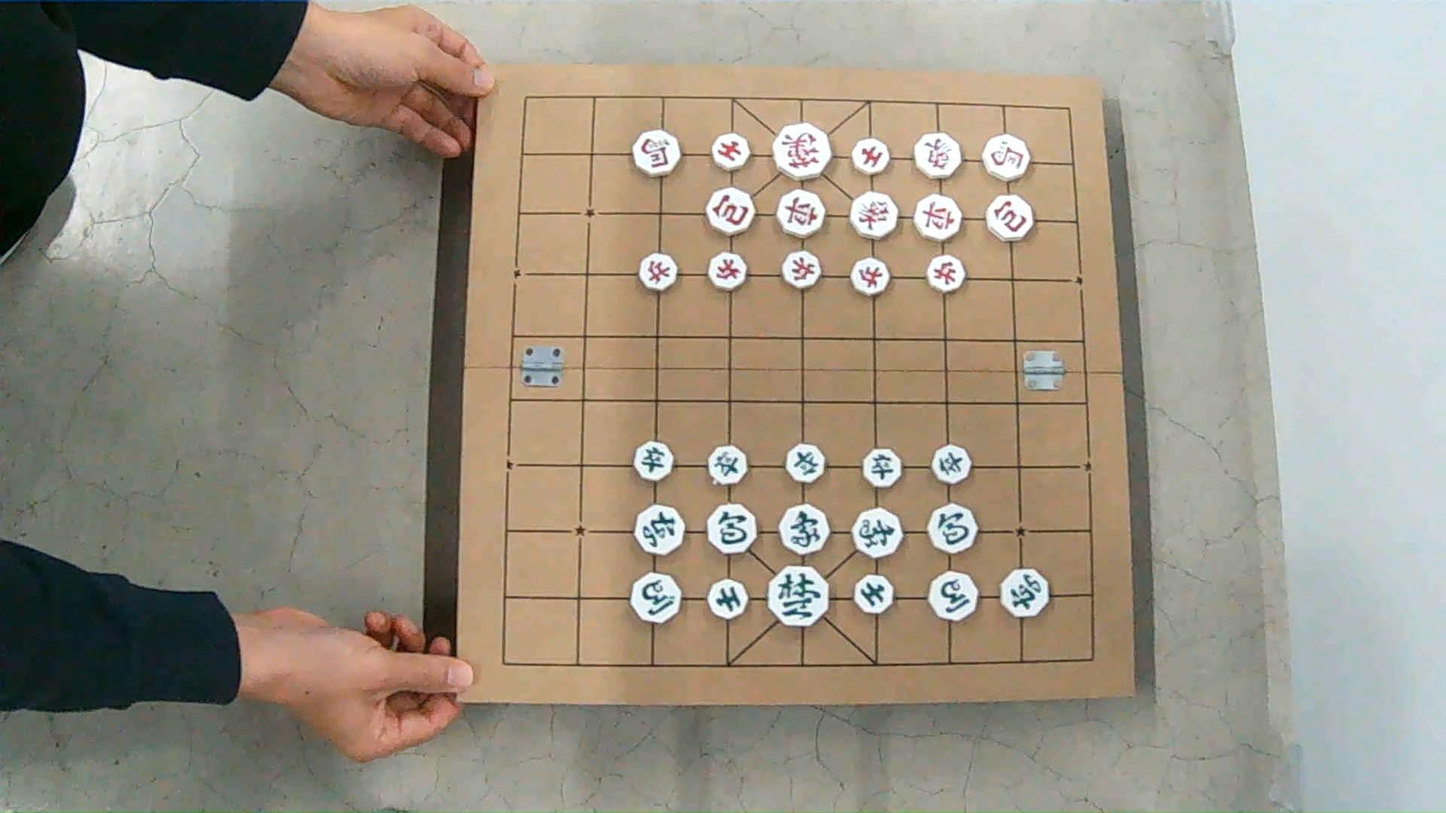cha_green: (633, 505, 684, 555), (1000, 568, 1048, 617)
cha_red: (776, 190, 824, 237), (914, 195, 961, 241)
jol_green: (633, 441, 672, 481), (862, 449, 901, 488), (786, 444, 825, 483), (932, 445, 971, 484), (709, 446, 747, 485)
jol_red: (709, 252, 747, 291), (639, 253, 677, 291), (851, 258, 889, 296), (928, 255, 966, 292), (784, 251, 821, 288)
ma_green: (630, 573, 680, 623), (929, 571, 978, 620)
ma_red: (632, 130, 680, 178), (983, 135, 1030, 181)
po_green: (706, 504, 755, 554), (929, 504, 978, 553)
po_red: (706, 187, 754, 236), (986, 195, 1033, 242)
sa_green: (708, 580, 747, 619), (855, 574, 892, 614)
sa_red: (712, 133, 750, 171), (851, 139, 890, 175)
sang_green: (779, 504, 828, 555), (852, 508, 901, 558)
sang_red: (850, 192, 898, 239), (914, 133, 961, 179)
wang_green: (768, 565, 828, 626)
wang_red: (773, 123, 831, 179)
